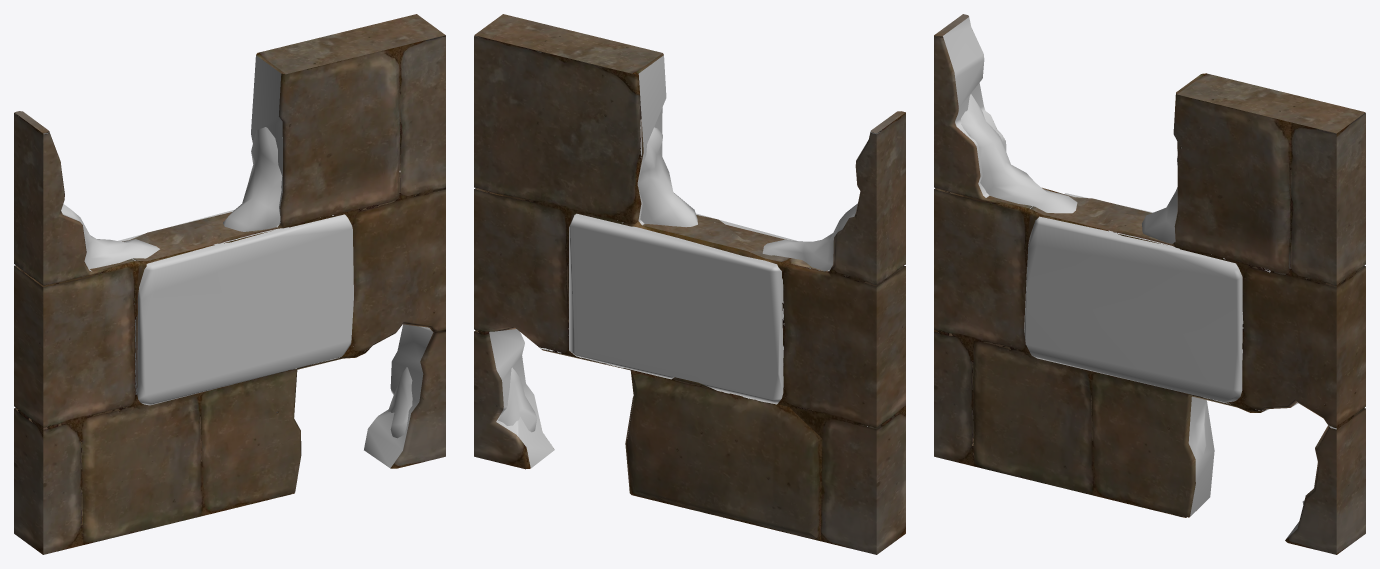
3 renders of one model, left to right at view 1: azimuth 30°, elevation 25°; view 2: azimuth 150°, elevation 25°; view 3: azimuth 330°, elevation 25°, orthographic.
Parts seen in each view (by area): view 1: SM_Vault_4x4_Dmg_Wall_01_V2_LOD0; view 2: SM_Vault_4x4_Dmg_Wall_01_V2_LOD0; view 3: SM_Vault_4x4_Dmg_Wall_01_V2_LOD0.
Part boxes in pixels (x1,y1,x2,y2): SM_Vault_4x4_Dmg_Wall_01_V2_LOD0: (14, 14, 445, 554); SM_Vault_4x4_Dmg_Wall_01_V2_LOD0: (474, 14, 905, 554); SM_Vault_4x4_Dmg_Wall_01_V2_LOD0: (934, 14, 1365, 554).
Size of the model in its own units: 4 by 4 by 0.6797.
